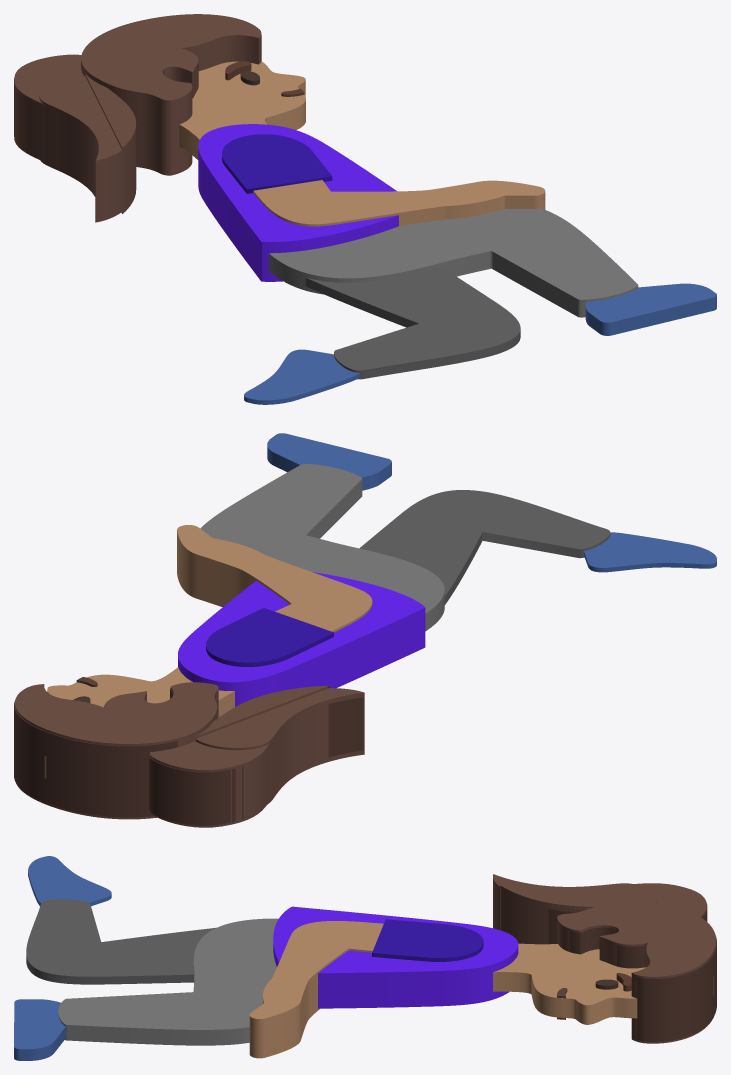
File: emoji_u1f9ce_1f3fd_200d_2640_200d_27a1.glb
The picture shows the model from 3 angles, top to bottom: view 1: azimuth 30°, elevation 25°; view 2: azimuth 150°, elevation 25°; view 3: azimuth 270°, elevation 25°; orthographic projection. The views are drawn at different scales.
Parts seen in each view (by area): view 1: emoji_u1f9ce_1f3fd_200d_2640_200d_27a1; view 2: emoji_u1f9ce_1f3fd_200d_2640_200d_27a1; view 3: emoji_u1f9ce_1f3fd_200d_2640_200d_27a1.
Part boxes in pixels (bbox=[...]): emoji_u1f9ce_1f3fd_200d_2640_200d_27a1: bbox=[14, 14, 716, 404]; emoji_u1f9ce_1f3fd_200d_2640_200d_27a1: bbox=[14, 433, 716, 827]; emoji_u1f9ce_1f3fd_200d_2640_200d_27a1: bbox=[14, 856, 716, 1060].
Size of the model in its own units: 0.0215 by 0.0034 by 0.0325.
